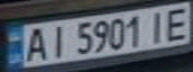0: (109, 16, 130, 51)
1: (124, 11, 145, 47)
5: (72, 19, 93, 55)
9: (90, 17, 112, 53)
A: (18, 25, 51, 62)
E: (160, 3, 193, 42)
I: (42, 21, 72, 59), (142, 8, 172, 44)
